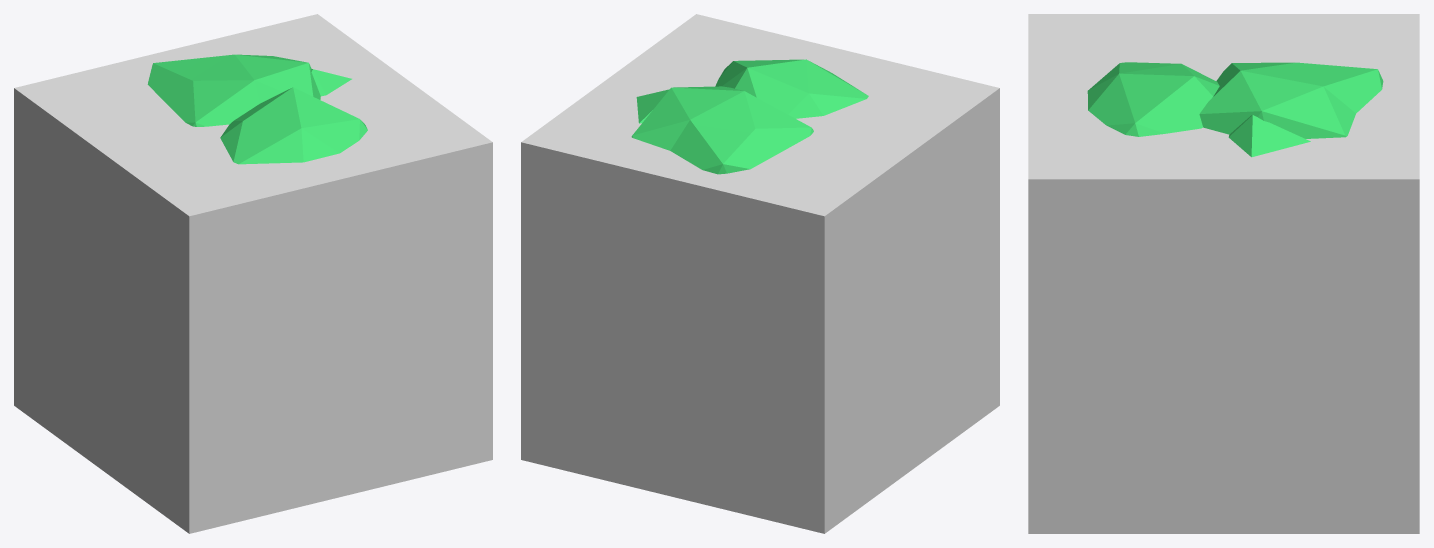
The picture shows the model from 3 angles, left to right: view 1: azimuth 30°, elevation 25°; view 2: azimuth 150°, elevation 25°; view 3: azimuth 270°, elevation 25°; orthographic projection. The views are drawn at different scales.
Visible parts, largest first — view 1: Cube, Icosphere; view 2: Cube, Icosphere; view 3: Cube, Icosphere.
Boxes of the visible parts, x1,y1,x2,y2 form: Cube: [14, 14, 492, 533]; Icosphere: [147, 54, 367, 164]; Cube: [521, 14, 999, 533]; Icosphere: [631, 59, 868, 174]; Cube: [1028, 14, 1419, 533]; Icosphere: [1087, 62, 1383, 157].
Bounding box in the file's own units: 1348 × 1487 × 1348.
